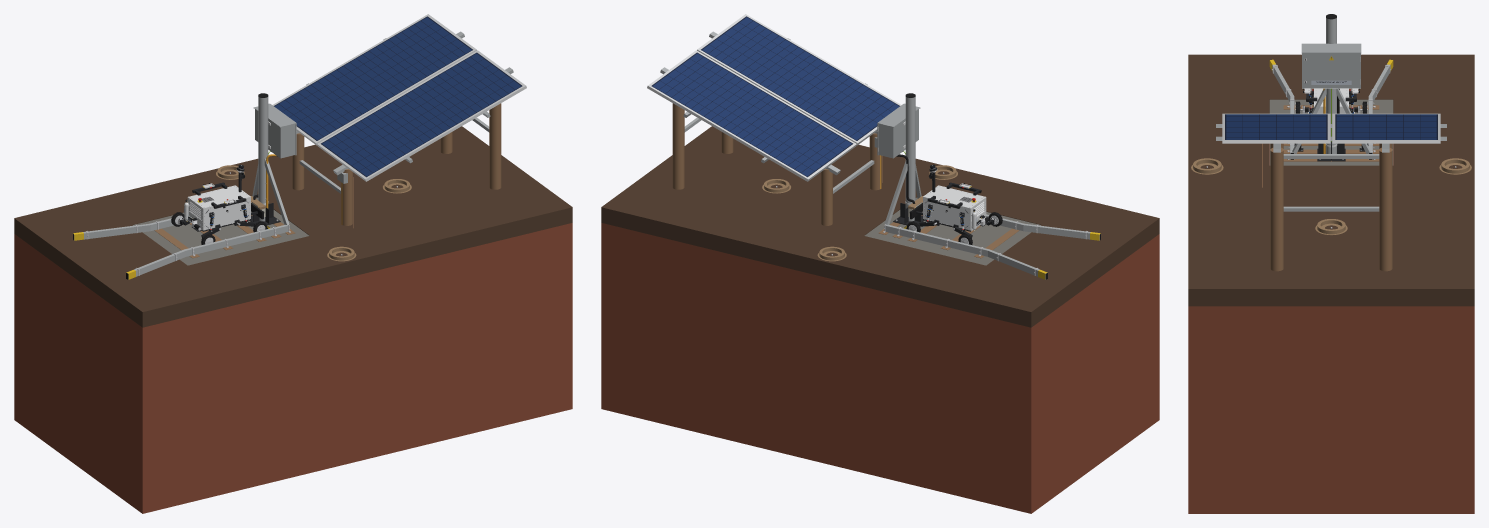
Rendered from base-campo.glb.
3 renders of one model, left to right at view 1: azimuth 30°, elevation 25°; view 2: azimuth 150°, elevation 25°; view 3: azimuth 270°, elevation 25°, orthographic. The views are drawn at different scales.
Visible parts, largest first — view 1: Solo da plantação (latossolo), em corte, Painel fotovoltaico 550 Wp, 144 meias-células (direito), Painel fotovoltaico 550 Wp, 144 meias-células (esquerdo), Quatro postes de eucalipto tratado Ø 140, enterrados 800 mm , Pó de pedra compactado, acabamento, Poste de contato Ø 114,3 × 4 × 1600, placa de base e duas es, Caixa de poliéster IP65 do controlador, com aba contra chuva, Três caixas de inspeção de PVC Ø 300 com tampa, Longarina da grade, tubo galvanizado 80 × 40 (direita), pres, Lateral.001, Tampa, Guia do funil, girada 13,5° (esquerda); parafusada na longar; view 2: Solo da plantação (latossolo), em corte, Painel fotovoltaico 550 Wp, 144 meias-células (esquerdo), Painel fotovoltaico 550 Wp, 144 meias-células (direito), Quatro postes de eucalipto tratado Ø 140, enterrados 800 mm , Pó de pedra compactado, acabamento, Poste de contato Ø 114,3 × 4 × 1600, placa de base e duas es, Caixa de poliéster IP65 do controlador, com aba contra chuva, Três caixas de inspeção de PVC Ø 300 com tampa, Longarina da grade, tubo galvanizado 80 × 40 (esquerda), pre, Lateral, Tampa, Guia do funil, girada 13,5° (direita); parafusada na longari; view 3: Solo da plantação (latossolo), em corte, Quatro postes de eucalipto tratado Ø 140, enterrados 800 mm , Painel fotovoltaico 550 Wp, 144 meias-células (direito), Painel fotovoltaico 550 Wp, 144 meias-células (esquerdo), Porta da caixa, com vedação, duas dobradiças e duas fechadur, Pó de pedra compactado, acabamento, Poste de contato Ø 114,3 × 4 × 1600, placa de base e duas es, Três caixas de inspeção de PVC Ø 300 com tampa, Caixa de poliéster IP65 do controlador, com aba contra chuva.
Part boxes in pixels (x1,y1,x2,y2): Solo da plantação (latossolo), em corte: [14, 126, 572, 513]; Painel fotovoltaico 550 Wp, 144 meias-células (direito): [317, 50, 526, 181]; Painel fotovoltaico 550 Wp, 144 meias-células (esquerdo): [272, 14, 476, 145]; Quatro postes de eucalipto tratado Ø 140, enterrados 800 mm : [292, 103, 501, 225]; Pó de pedra compactado, acabamento: [133, 197, 309, 265]; Poste de contato Ø 114,3 × 4 × 1600, placa de base e duas es: [249, 93, 289, 225]; Caixa de poliéster IP65 do controlador, com aba contra chuva: [253, 103, 296, 158]; Três caixas de inspeção de PVC Ø 300 com tampa: [216, 165, 411, 261]; Longarina da grade, tubo galvanizado 80 × 40 (direita), pres: [184, 224, 289, 256]; Lateral.001: [203, 197, 250, 230]; Tampa: [188, 185, 250, 208]; Guia do funil, girada 13,5° (esquerda); parafusada na longar: [73, 223, 150, 240]; Solo da plantação (latossolo), em corte: [601, 126, 1159, 513]; Painel fotovoltaico 550 Wp, 144 meias-células (esquerdo): [647, 50, 856, 181]; Painel fotovoltaico 550 Wp, 144 meias-células (direito): [697, 14, 901, 145]; Quatro postes de eucalipto tratado Ø 140, enterrados 800 mm : [672, 103, 881, 225]; Pó de pedra compactado, acabamento: [864, 197, 1040, 265]; Poste de contato Ø 114,3 × 4 × 1600, placa de base e duas es: [884, 93, 924, 225]; Caixa de poliéster IP65 do controlador, com aba contra chuva: [877, 103, 920, 158]; Três caixas de inspeção de PVC Ø 300 com tampa: [762, 165, 957, 261]; Longarina da grade, tubo galvanizado 80 × 40 (esquerda), pre: [884, 224, 989, 256]; Lateral: [923, 197, 970, 230]; Tampa: [923, 185, 985, 208]; Guia do funil, girada 13,5° (direita); parafusada na longari: [1023, 223, 1100, 240]; Solo da plantação (latossolo), em corte: [1188, 54, 1474, 513]; Quatro postes de eucalipto tratado Ø 140, enterrados 800 mm : [1270, 143, 1392, 271]; Painel fotovoltaico 550 Wp, 144 meias-células (direito): [1222, 113, 1330, 143]; Painel fotovoltaico 550 Wp, 144 meias-células (esquerdo): [1332, 113, 1440, 143]; Porta da caixa, com vedação, duas dobradiças e duas fechadur: [1302, 54, 1360, 88]; Pó de pedra compactado, acabamento: [1269, 99, 1393, 165]; Poste de contato Ø 114,3 × 4 × 1600, placa de base e duas es: [1292, 14, 1370, 161]; Três caixas de inspeção de PVC Ø 300 com tampa: [1191, 158, 1471, 235]; Caixa de poliéster IP65 do controlador, com aba contra chuva: [1301, 43, 1361, 53].
Size of the model in its own units: 5.8 by 4.21 by 3.
